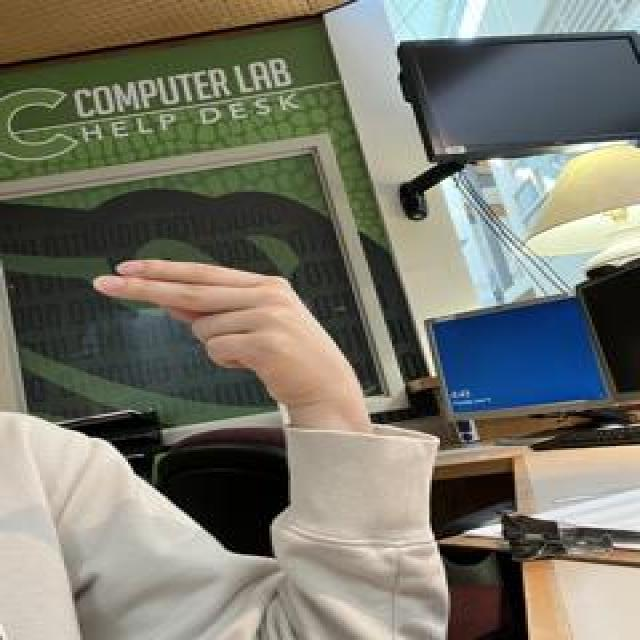H: (92, 256, 345, 382)
